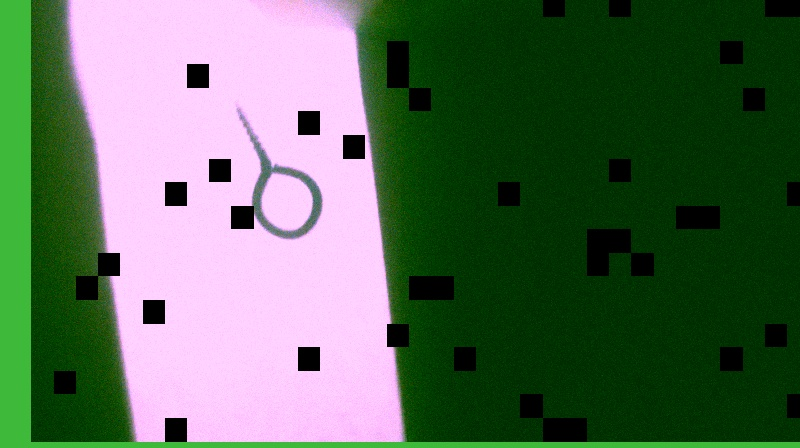O001: (225, 96, 325, 242)
